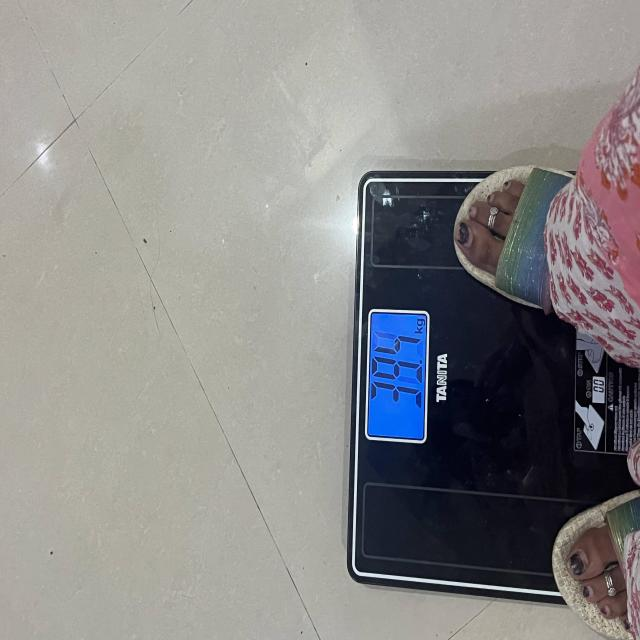ws: (346, 167, 640, 600)
